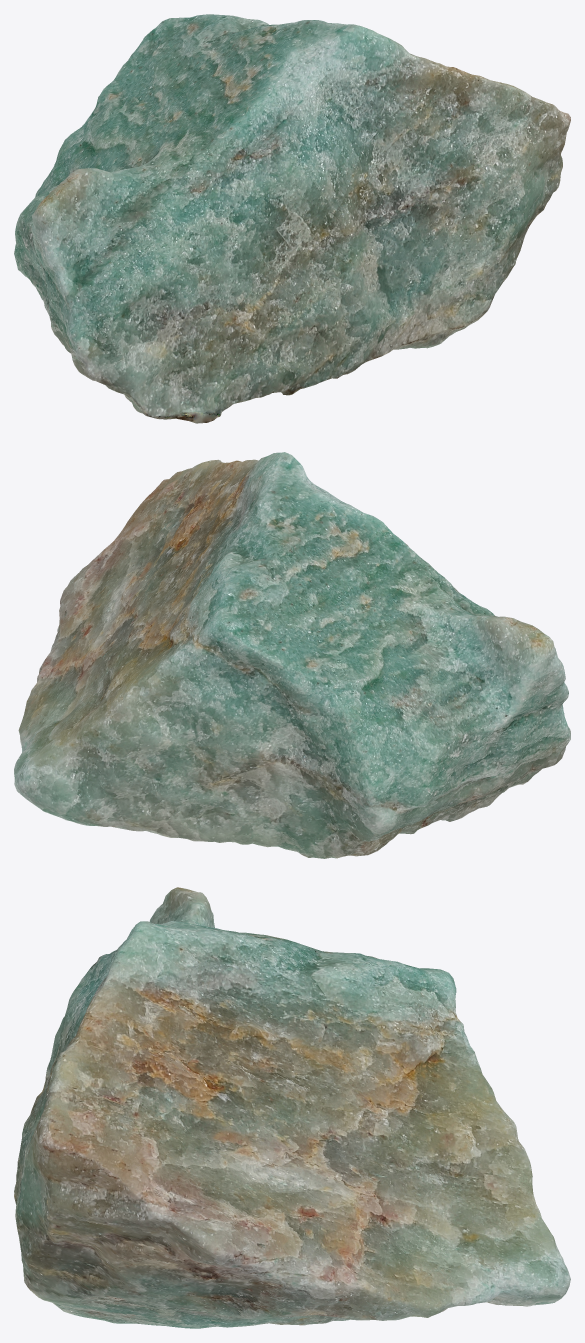
Rendered from aventurina.glb.
The picture shows the model from 3 angles, top to bottom: view 1: azimuth 30°, elevation 25°; view 2: azimuth 150°, elevation 25°; view 3: azimuth 270°, elevation 25°; orthographic projection. The views are drawn at different scales.
Visible parts, largest first — view 1: Model; view 2: Model; view 3: Model.
Part boxes in pixels (x1,y1,x2,y2): Model: (14, 14, 570, 423); Model: (14, 452, 570, 858); Model: (14, 887, 570, 1328).
Size of the model in its own units: 3.03 by 1.84 by 2.41.
Materials: 4 (4 with a texture image).
